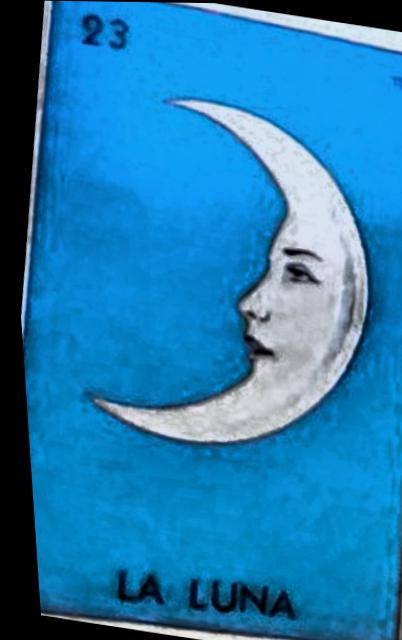La Luna: (18, 1, 402, 640)
